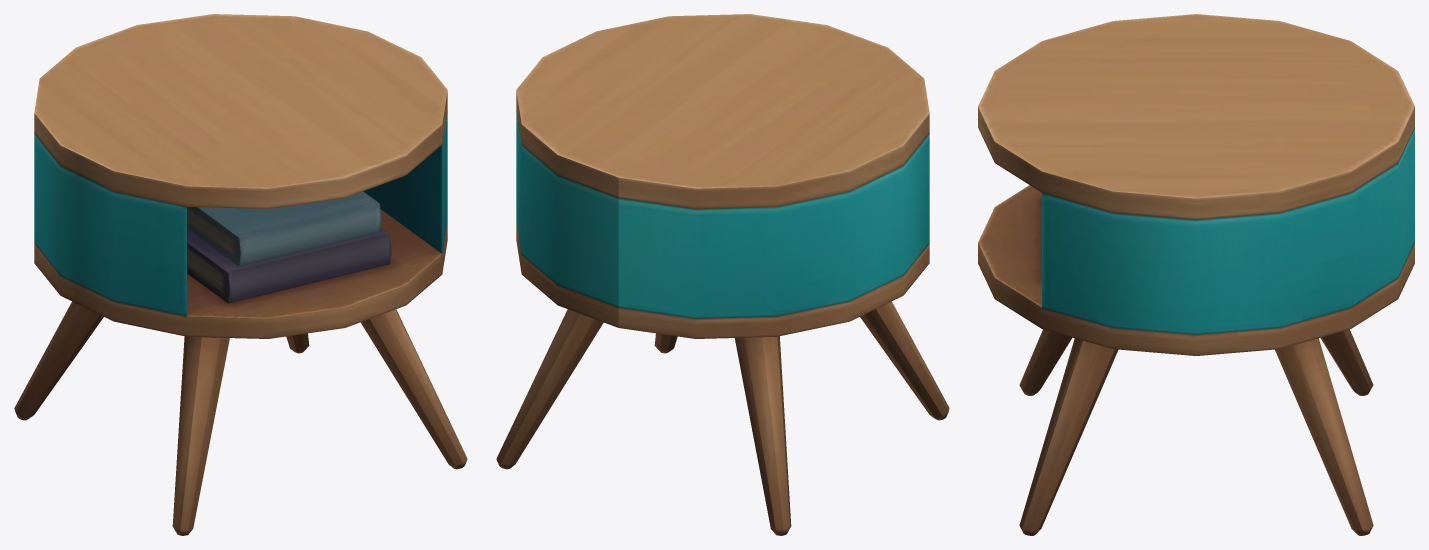
File: tiny_not_atable_end.glb
3 views of the same model, side by side, from view 1: azimuth 30°, elevation 25°; view 2: azimuth 150°, elevation 25°; view 3: azimuth 270°, elevation 25° (orthographic). The views are drawn at different scales.
Visible parts, largest first — view 1: Object_88; view 2: Object_88; view 3: Object_88.
Part boxes in pixels (x1=…): Object_88: x1=14, y1=14, x2=467, y2=535; Object_88: x1=496, y1=14, x2=949, y2=535; Object_88: x1=978, y1=14, x2=1414, y2=535.
Bounding box in the file's own units: 0.9325 × 0.8447 × 0.9325.
1 material, 1 textured.
